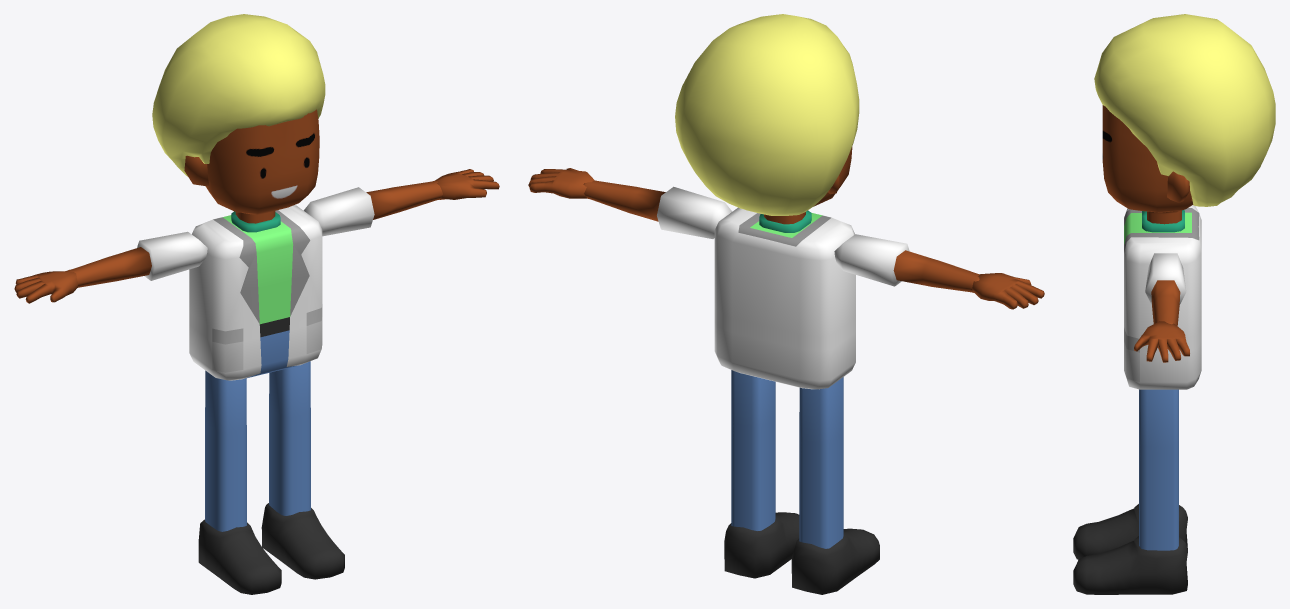
Rendered from NPC_Yellow02_BlondeHair01.gltf.
3 views of the same model, side by side, from view 1: azimuth 30°, elevation 25°; view 2: azimuth 150°, elevation 25°; view 3: azimuth 270°, elevation 25° (orthographic). The views are drawn at different scales.
Parts seen in each view (by area): view 1: NPC_Corpo_Yellow2_BlondeHair.001; view 2: NPC_Corpo_Yellow2_BlondeHair.001; view 3: NPC_Corpo_Yellow2_BlondeHair.001.
Boxes of the visible parts, x1=… form: NPC_Corpo_Yellow2_BlondeHair.001: x1=14, y1=14, x2=499, y2=594; NPC_Corpo_Yellow2_BlondeHair.001: x1=528, y1=14, x2=1044, y2=594; NPC_Corpo_Yellow2_BlondeHair.001: x1=1073, y1=14, x2=1275, y2=594.
Size of the model in its own units: 2.31 by 2.41 by 0.8168.
1 material, 1 textured.
